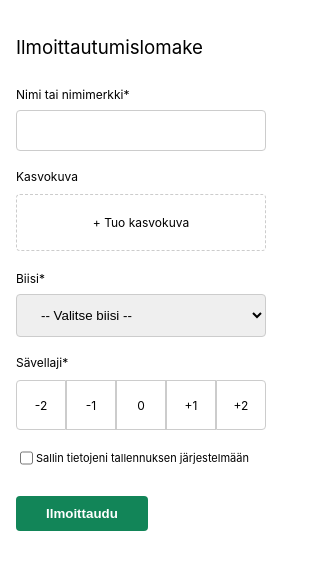
renders the error messages if name, song, and key not added
Click the button labelled "Ilmoittaudu".
click(82, 514)  # box 16,496 -> 148,531
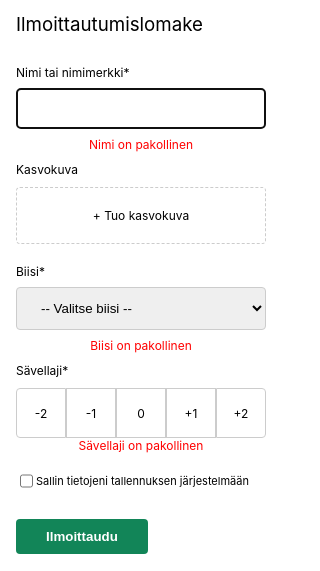
Check: the text "Nimi on pakollinen" is shown, box 89,137 -> 193,152
Check: the text "Biisi on pakollinen" is shown, box 90,338 -> 192,353
Check: the text "Sävellaji on pakollinen" is shown, box 79,438 -> 203,453
